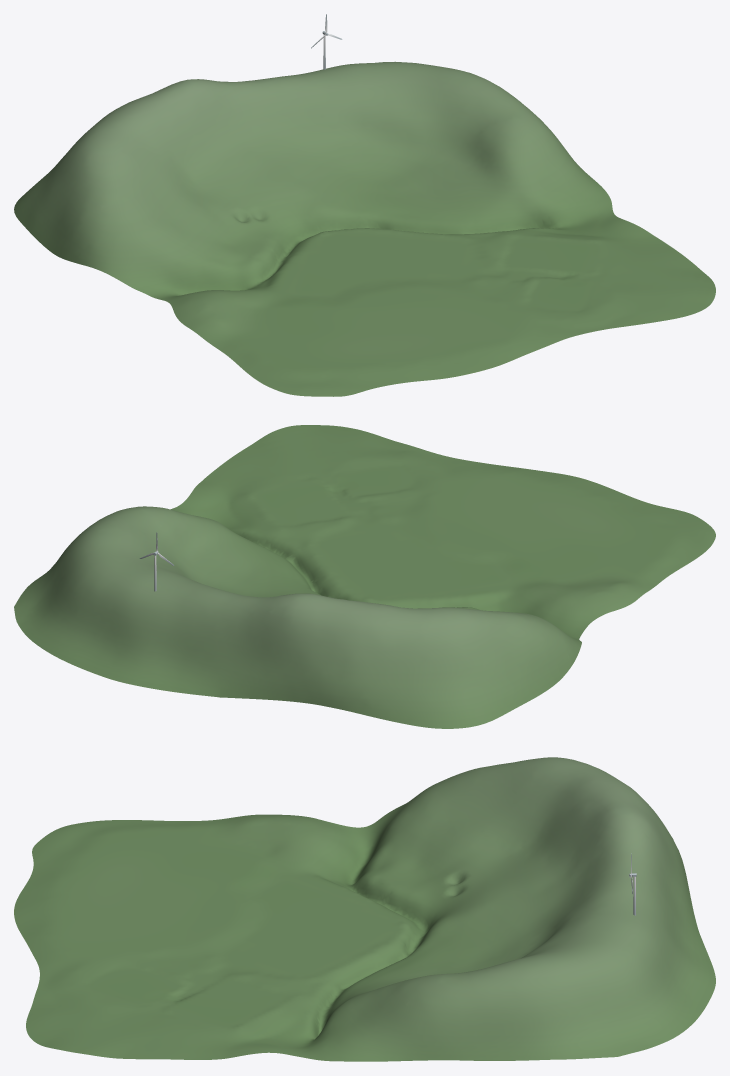
Rendered from anim-windturbine.glb.
3 views of the same model, one above another, from view 1: azimuth 30°, elevation 25°; view 2: azimuth 150°, elevation 25°; view 3: azimuth 270°, elevation 25° (orthographic). The views are drawn at different scales.
Visible parts, largest first — view 1: Plane.002; view 2: Plane.002; view 3: Plane.002.
Boxes of the visible parts, x1,y1,x2,y2 form: Plane.002: [14, 61, 715, 396]; Plane.002: [14, 425, 715, 728]; Plane.002: [14, 757, 715, 1061].
Bounding box in the file's own units: 47.95 × 12.89 × 54.42.
Materials: 1 (1 with a texture image).
